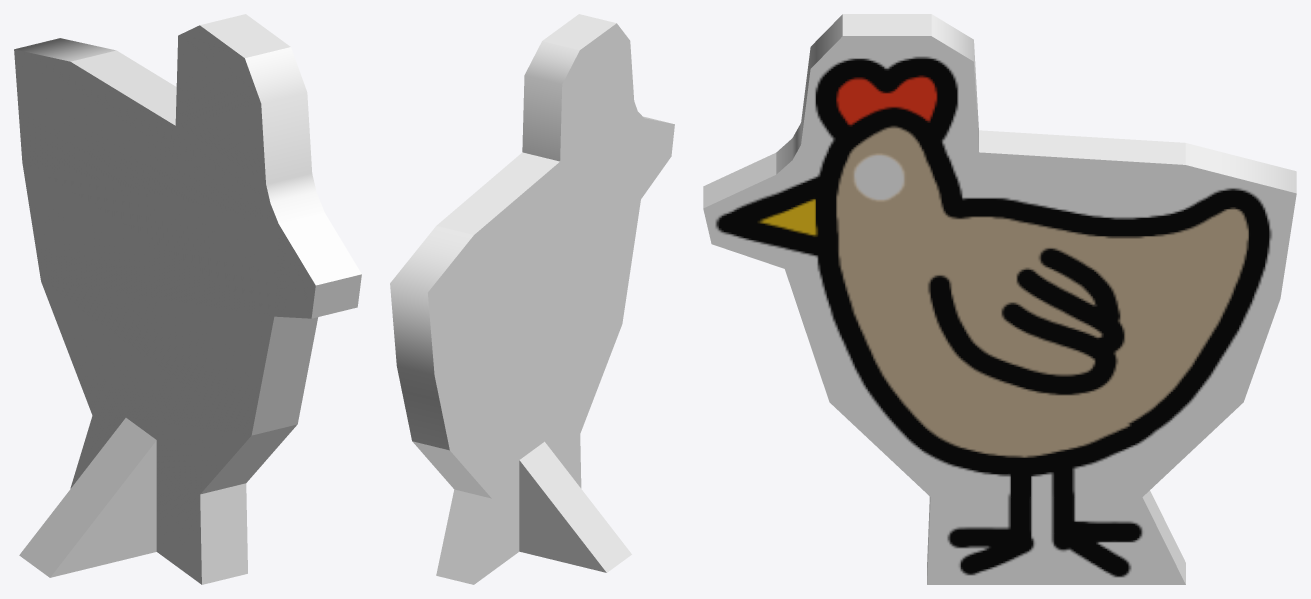
The model's file is chicken brown.fbx.
3 renders of one model, left to right at view 1: azimuth 30°, elevation 25°; view 2: azimuth 150°, elevation 25°; view 3: azimuth 270°, elevation 25°, orthographic. The views are drawn at different scales.
Parts seen in each view (by area): view 1: pCube7, pCube25; view 2: pCube7, pCube25; view 3: pCube7.
Boxes of the visible parts, bbox=[...] form: pCube7: bbox=[14, 14, 361, 584]; pCube25: bbox=[19, 418, 156, 577]; pCube7: bbox=[390, 14, 674, 584]; pCube25: bbox=[519, 441, 631, 572]; pCube7: bbox=[703, 14, 1296, 584].
Bounding box in the file's own units: 1.43 × 4.99 × 4.89.
